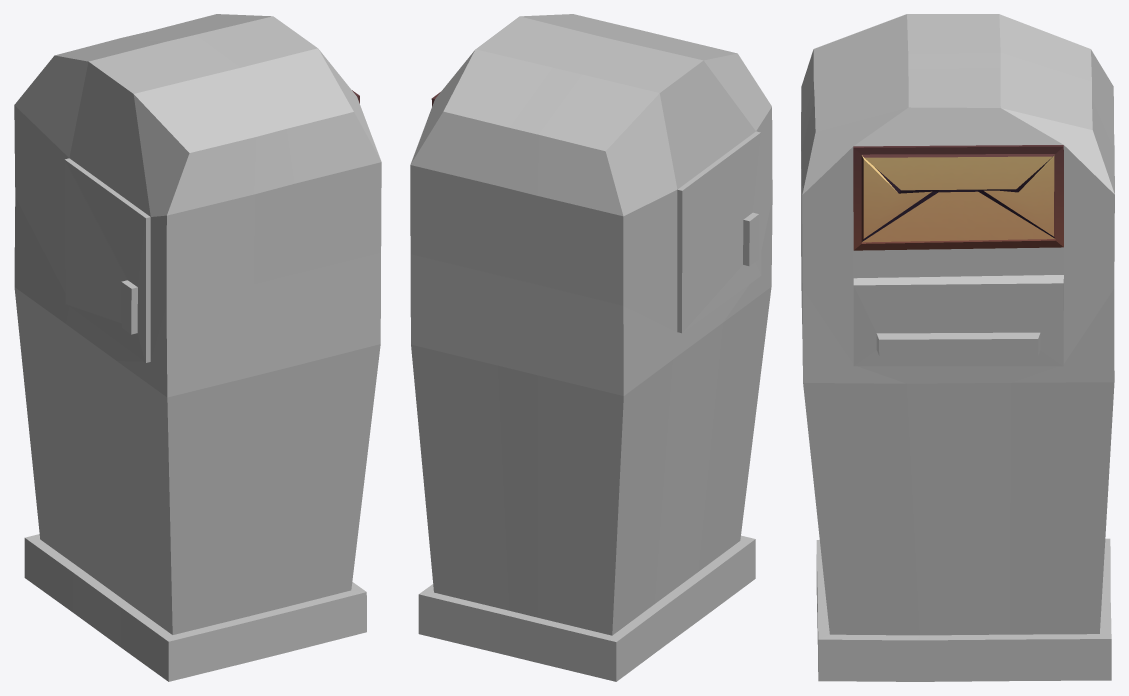
File: Obj_Mailbox.fbx
The picture shows the model from 3 angles, left to right: view 1: azimuth 30°, elevation 25°; view 2: azimuth 150°, elevation 25°; view 3: azimuth 270°, elevation 25°; orthographic projection. The views are drawn at different scales.
Parts seen in each view (by area): view 1: Mailbox; view 2: Mailbox; view 3: Mailbox.
Part boxes in pixels (x1,y1,x2,y2): Mailbox: [14, 14, 381, 681]; Mailbox: [410, 14, 772, 681]; Mailbox: [801, 14, 1114, 681].
Bounding box in the file's own units: 36.72 × 80.27 × 39.92.
